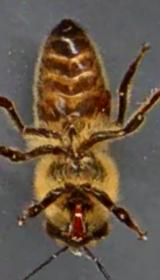varroa_mite: (90, 85, 114, 116)
